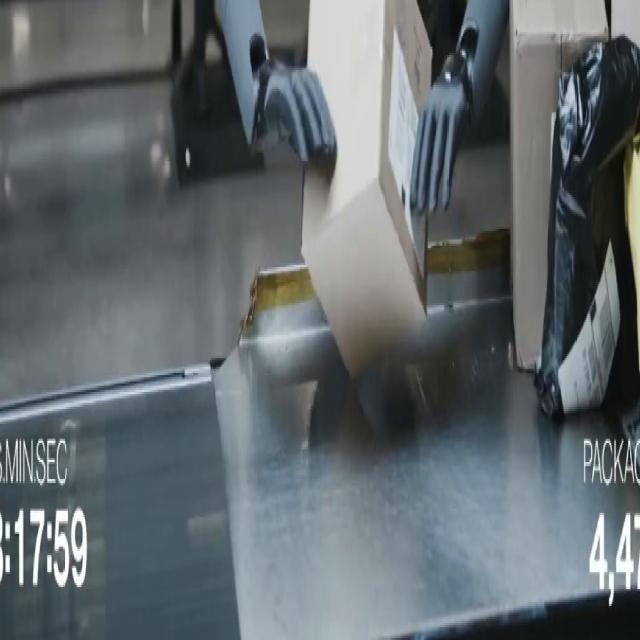package: (302, 0, 432, 377), (535, 37, 639, 417), (510, 0, 607, 370), (625, 136, 639, 300), (611, 0, 639, 46)
